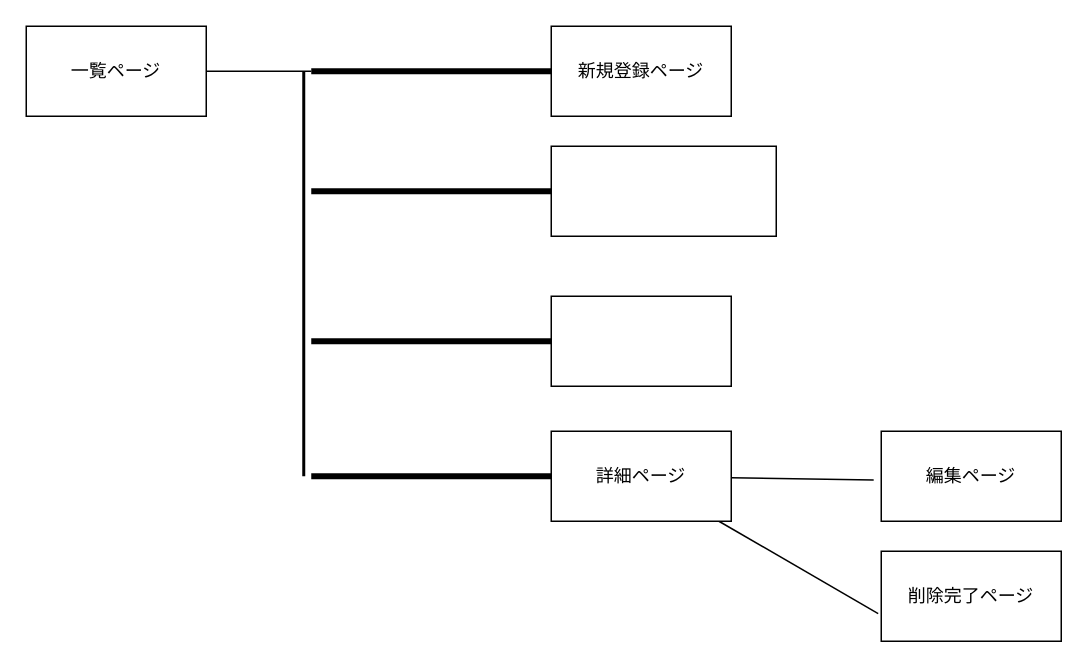
This 1088x668 diagram has some shape labels left out. Each missing label, with the centre of its shape:
"ユーザーログインページ" belongs at (663,190).
"投稿ページ" belongs at (640,340).
